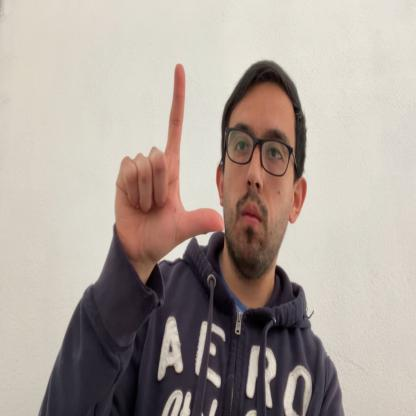L: (114, 63, 224, 265)
